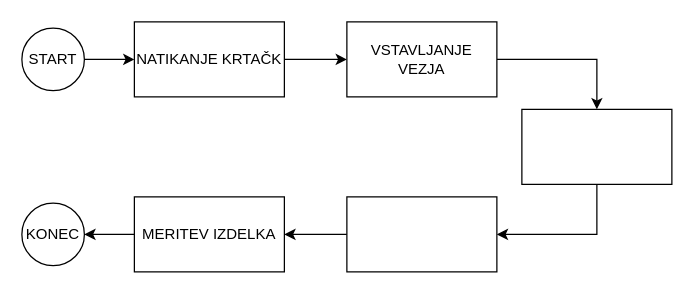
Image size: 694x294. Some labels were removed from this diagram. The box of each missing label's shape, as (x1, y1, x2, y2) in pixels:
ROČNO VARJENJE: (521, 108, 672, 184)
ROČNO VARJENJE VEZJA: (346, 196, 497, 272)
